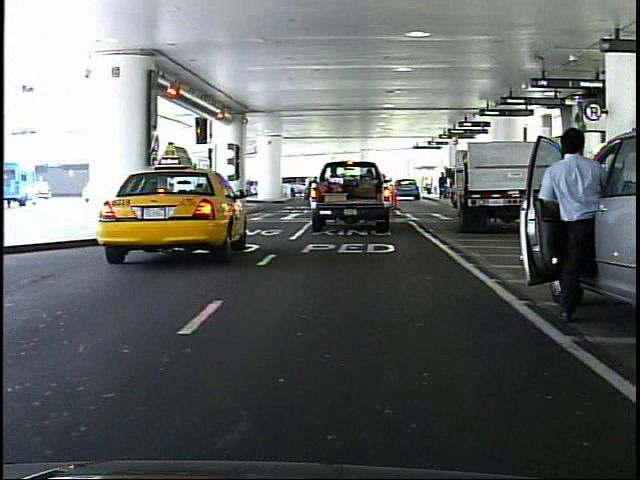person: (539, 123, 610, 326), (205, 167, 225, 213)
